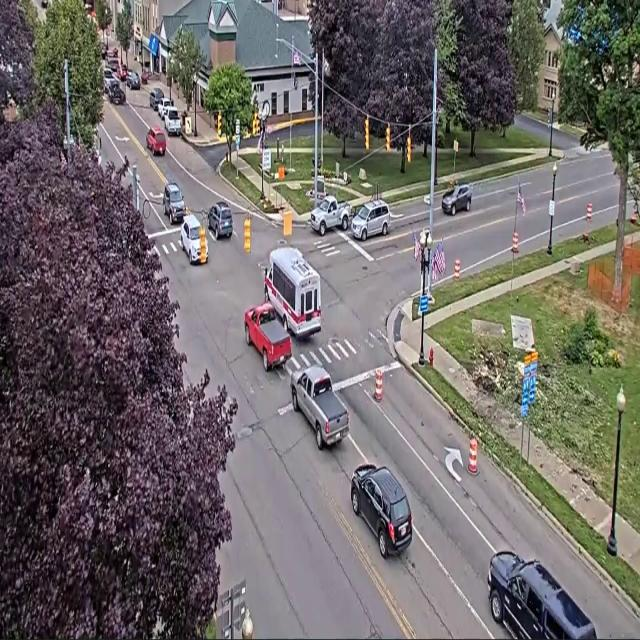car: (488, 552, 596, 639), (351, 464, 412, 558), (351, 200, 390, 241), (181, 215, 208, 264), (208, 201, 232, 239), (442, 184, 471, 215), (163, 183, 185, 223), (146, 126, 166, 156), (164, 107, 181, 135), (108, 79, 126, 105), (149, 87, 165, 111), (157, 97, 173, 119), (103, 68, 114, 93), (126, 71, 140, 89), (106, 58, 120, 74), (117, 64, 128, 81), (140, 70, 150, 84), (101, 42, 109, 59), (111, 47, 118, 57), (41, 0, 47, 8)
traffic signal: (244, 215, 250, 253), (200, 225, 206, 263), (252, 111, 259, 135), (365, 117, 369, 150), (407, 133, 411, 162), (217, 112, 221, 138), (386, 125, 390, 151), (548, 108, 552, 127)
truck: (291, 365, 348, 449), (244, 303, 291, 371), (310, 196, 351, 236)
